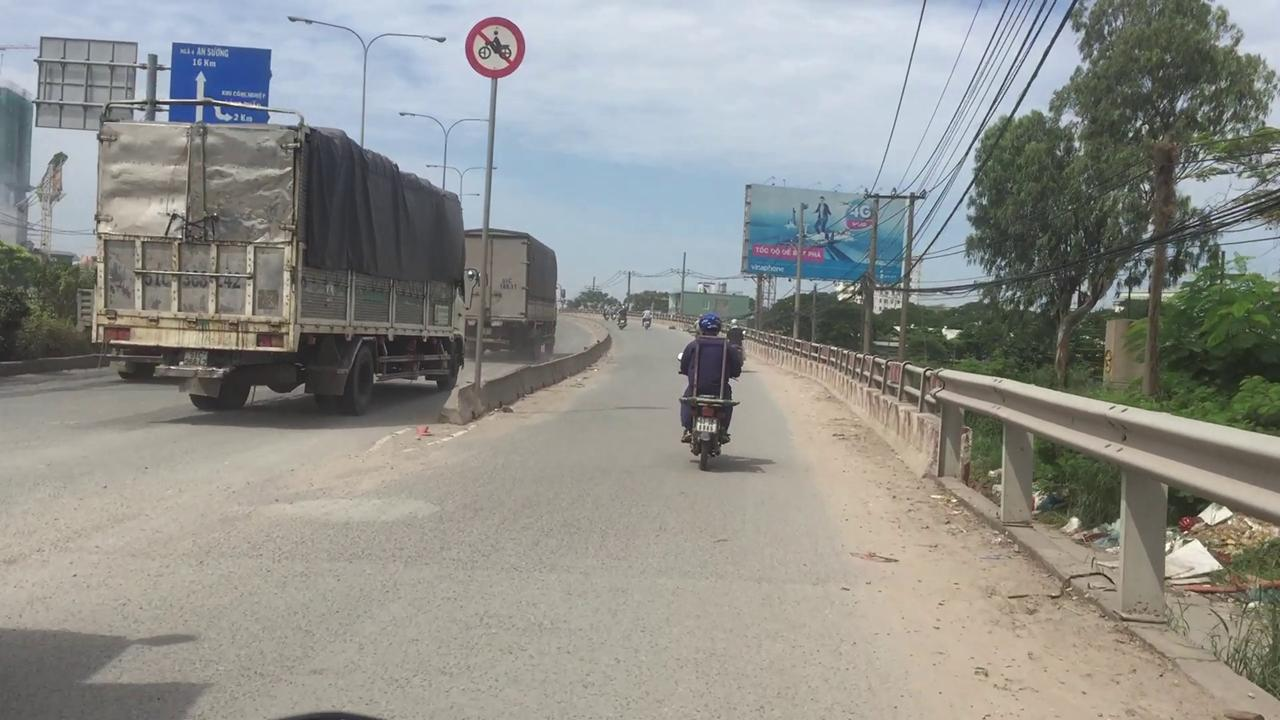P.103b: (466, 17, 522, 76)
